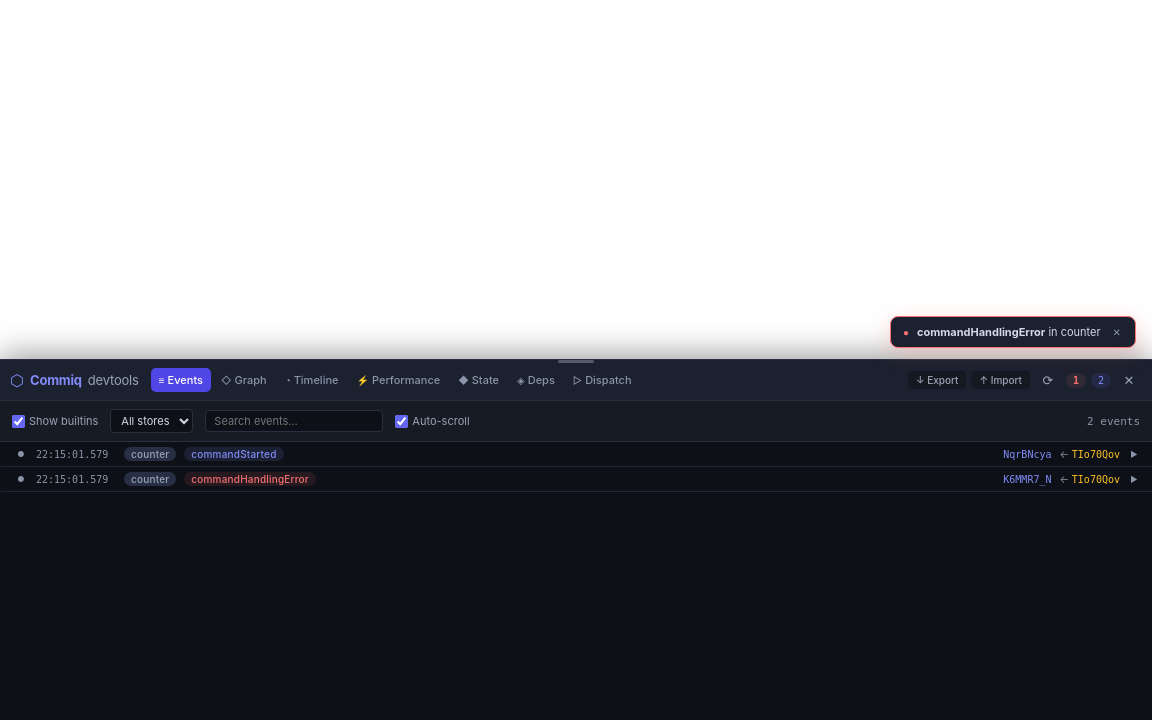
toast click routing (DT-7) › applies the error filter when the panel is already open
Click the element with class "commiq-toast".
click(1013, 332)  # box top-left (890, 316), bottom-right (1136, 348)
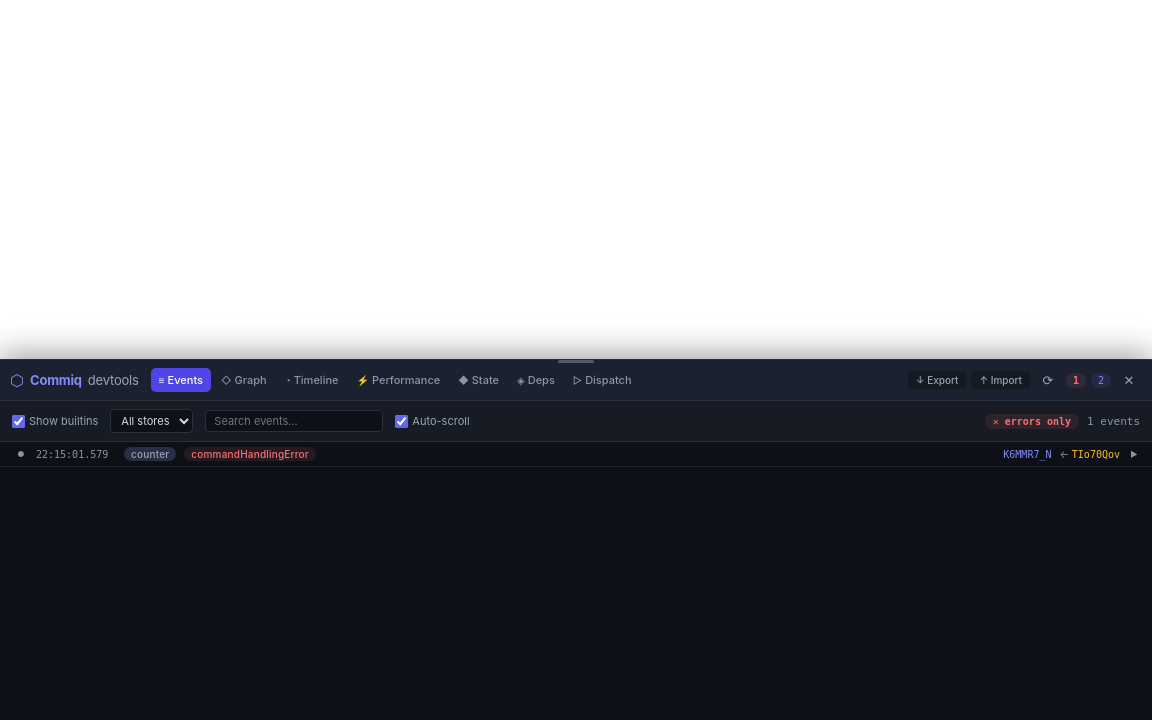
Check: the button with class "commiq-error-pill" is shown, box top-left (985, 414), bottom-right (1079, 428)
